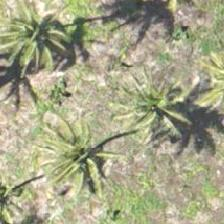Kelapa_Sawit: (33, 120, 123, 210), (113, 64, 203, 154), (0, 7, 74, 97), (0, 150, 55, 223)
